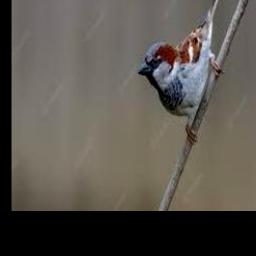Sparrow: (138, 0, 224, 144)
